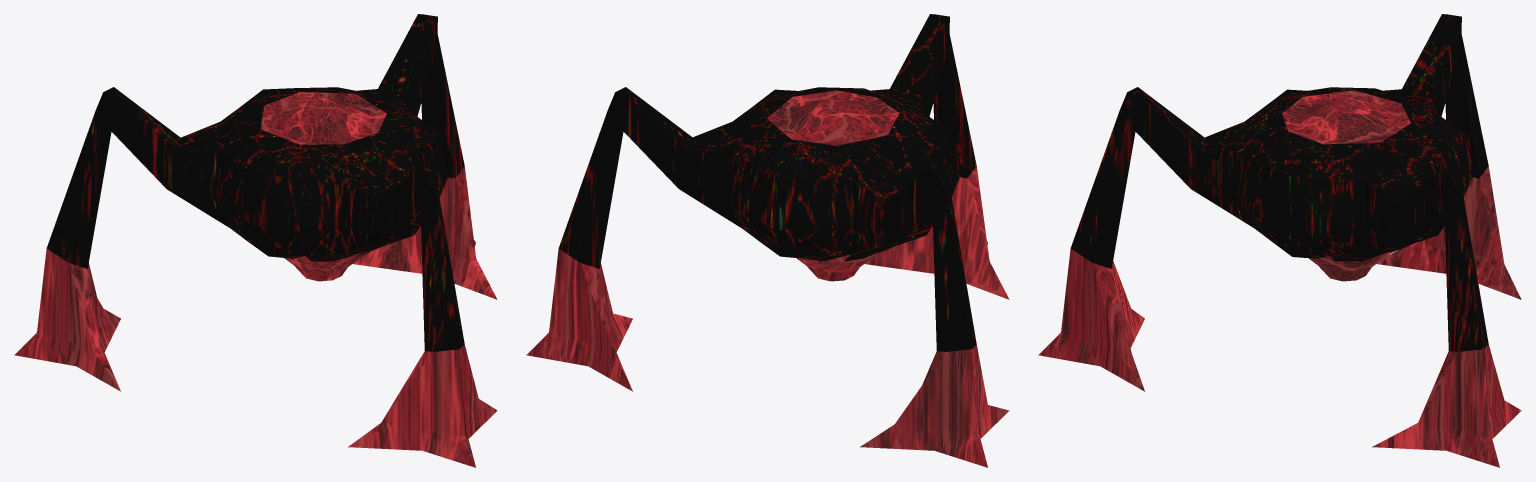
Rendered from crawler.glb.
3 views of the same model, side by side, from view 1: azimuth 30°, elevation 25°; view 2: azimuth 150°, elevation 25°; view 3: azimuth 270°, elevation 25° (orthographic).
Visible parts, largest first — view 1: Cylinder; view 2: Cylinder; view 3: Cylinder.
Boxes of the visible parts, box(x1,y1,x2,y2) form: Cylinder: box(14, 14, 497, 467); Cylinder: box(526, 14, 1009, 467); Cylinder: box(1038, 14, 1521, 467).
Size of the model in its own units: 11.66 by 6.38 by 10.57.
2 materials, 2 textured.
